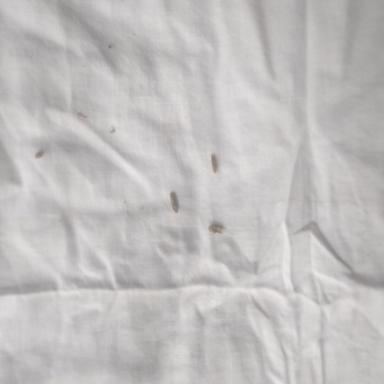pbw: (208, 222, 225, 235), (170, 191, 178, 213), (211, 152, 218, 174)
